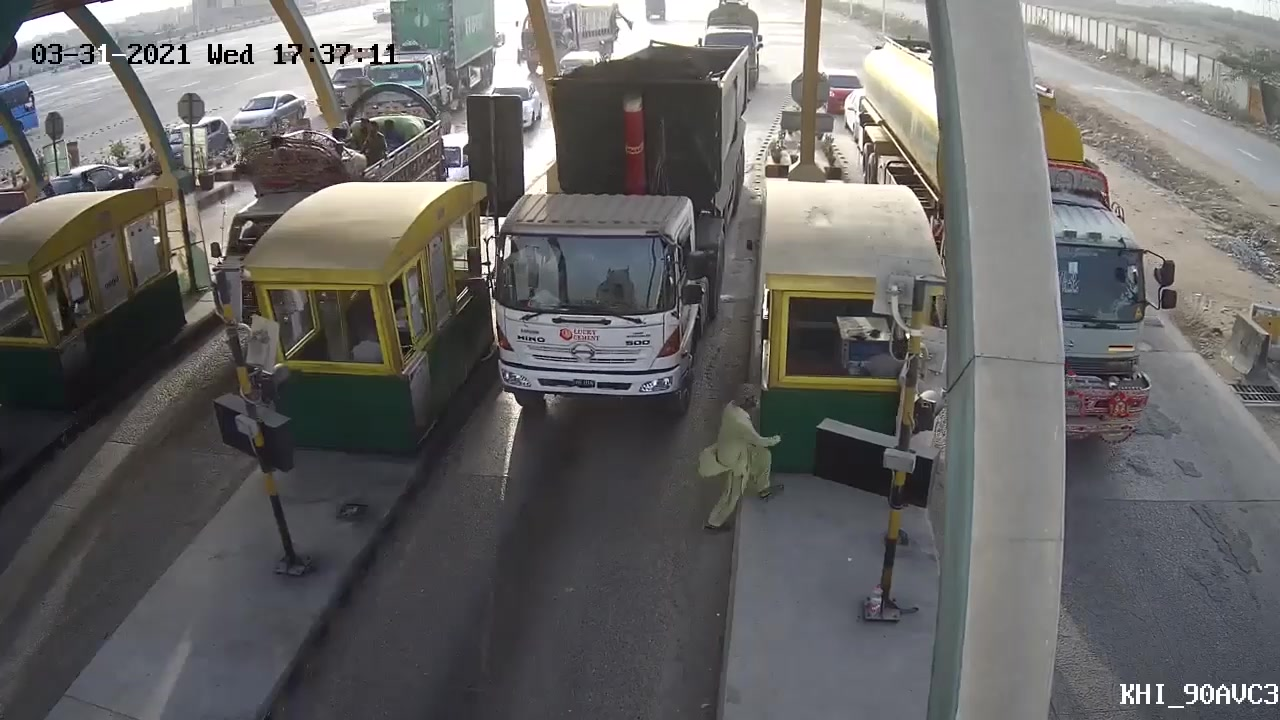F6: (473, 31, 758, 418)
